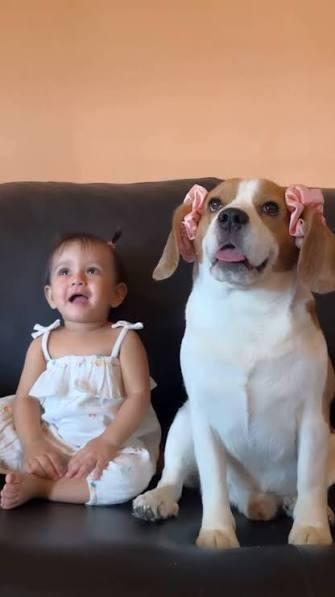adult_dog: (131, 176, 335, 551)
non-dog: (1, 235, 162, 512)
